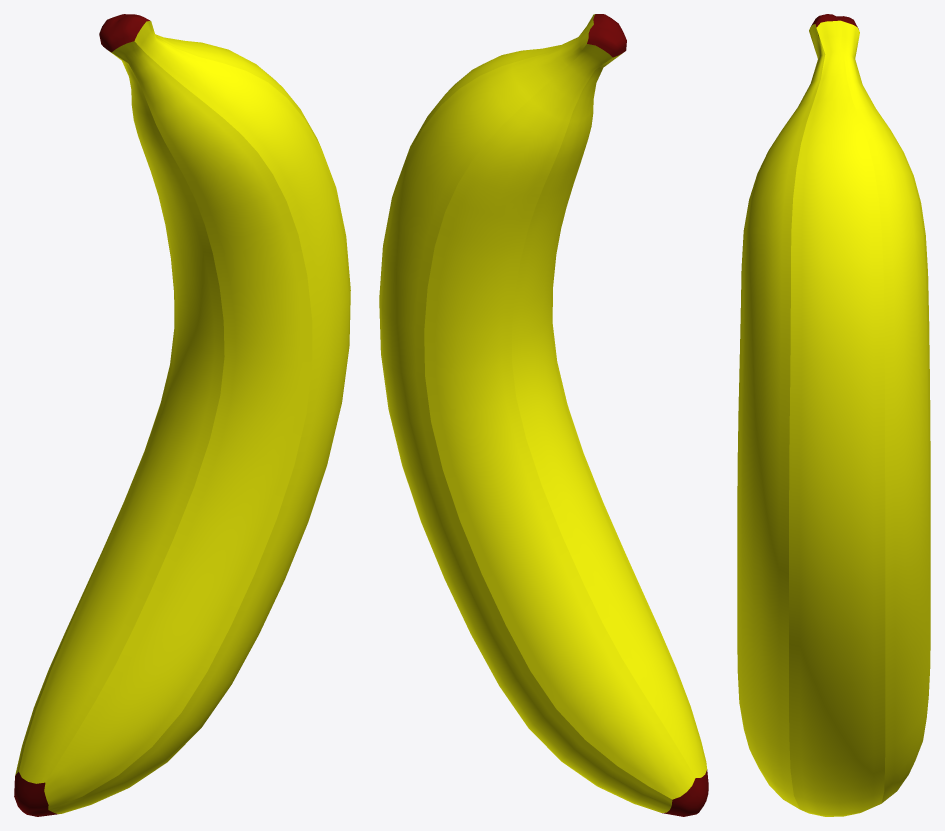
File: banana.dae
The picture shows the model from 3 angles, left to right: view 1: azimuth 30°, elevation 25°; view 2: azimuth 150°, elevation 25°; view 3: azimuth 270°, elevation 25°; orthographic projection. The views are drawn at different scales.
Visible parts, largest first — view 1: Box01; view 2: Box01; view 3: Box01.
Part boxes in pixels (x1,y1,x2,y2): Box01: (14,14,350,816); Box01: (379,14,708,816); Box01: (737,14,930,816).
Bounding box in the file's own units: 0.0773 × 0.0387 × 0.1819.
